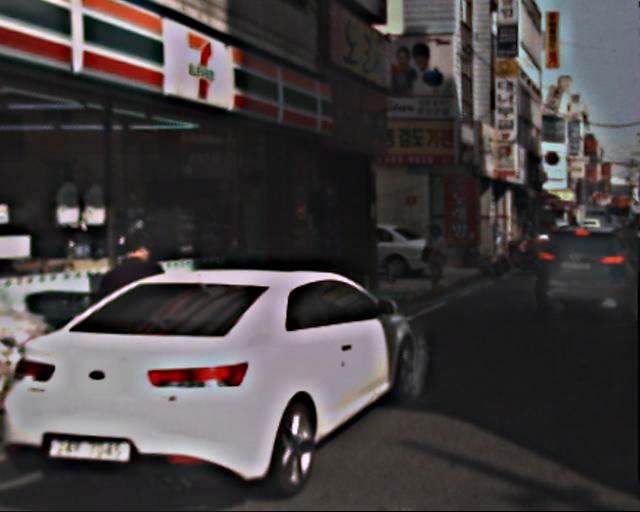person: (112, 234, 172, 379), (422, 224, 460, 291)
